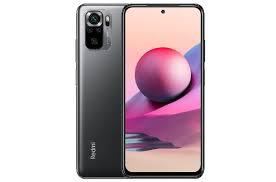Smartphone: (124, 5, 201, 174), (78, 2, 122, 175)
